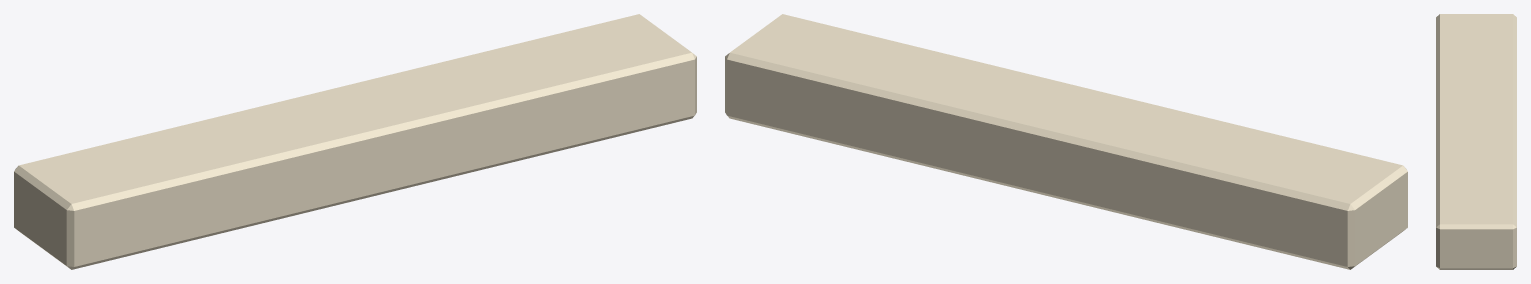
File: HouseCornice2m.fbx
3 views of the same model, side by side, from view 1: azimuth 30°, elevation 25°; view 2: azimuth 150°, elevation 25°; view 3: azimuth 270°, elevation 25° (orthographic). The views are drawn at different scales.
Parts seen in each view (by area): view 1: Body.012; view 2: Body.012; view 3: Body.012.
Boxes of the visible parts, x1,y1,x2,y2 form: Body.012: [14, 14, 696, 269]; Body.012: [725, 14, 1407, 269]; Body.012: [1436, 14, 1516, 269].
Bounding box in the file's own units: 2 × 0.2 × 0.32.
